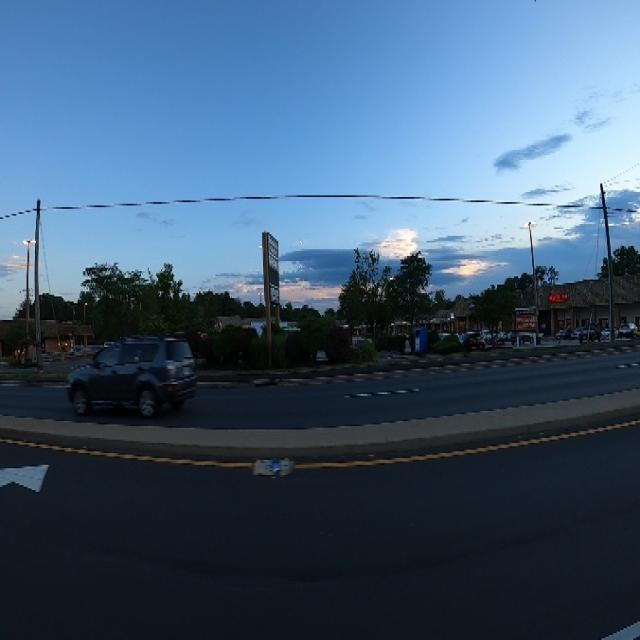car: (61, 324, 204, 440)
